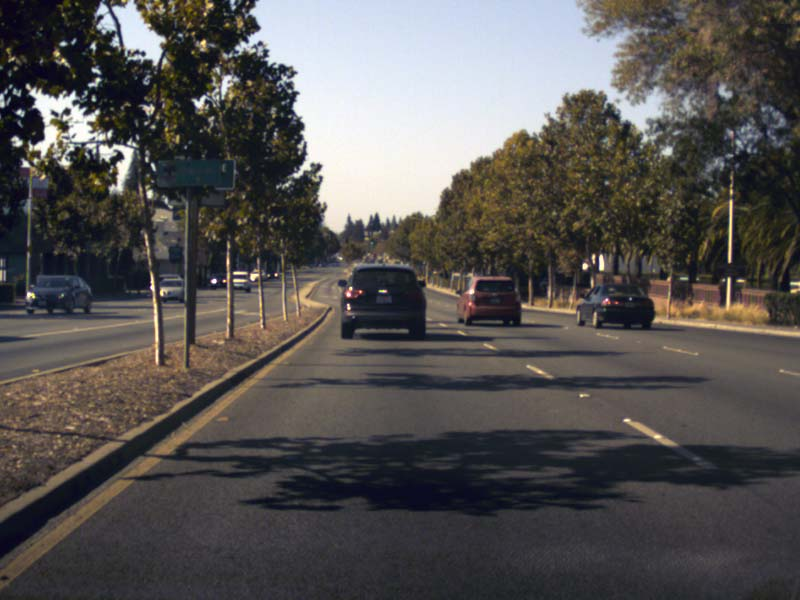Green: (369, 238, 373, 247)
